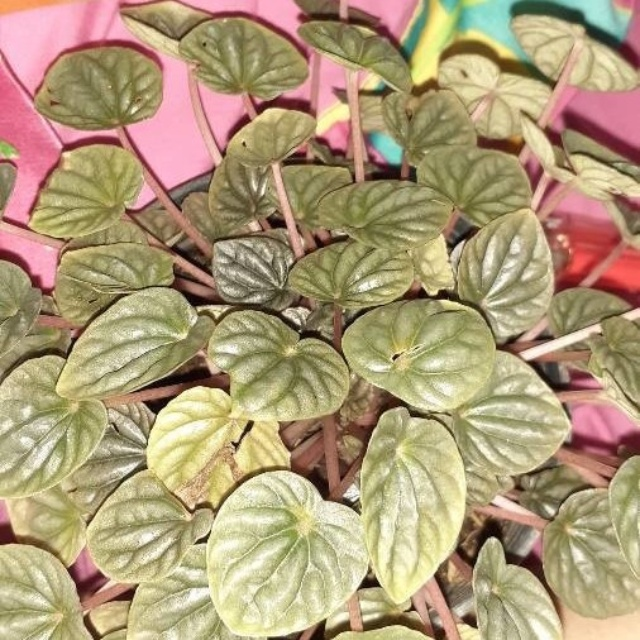obstacle: (28, 51, 554, 597)
